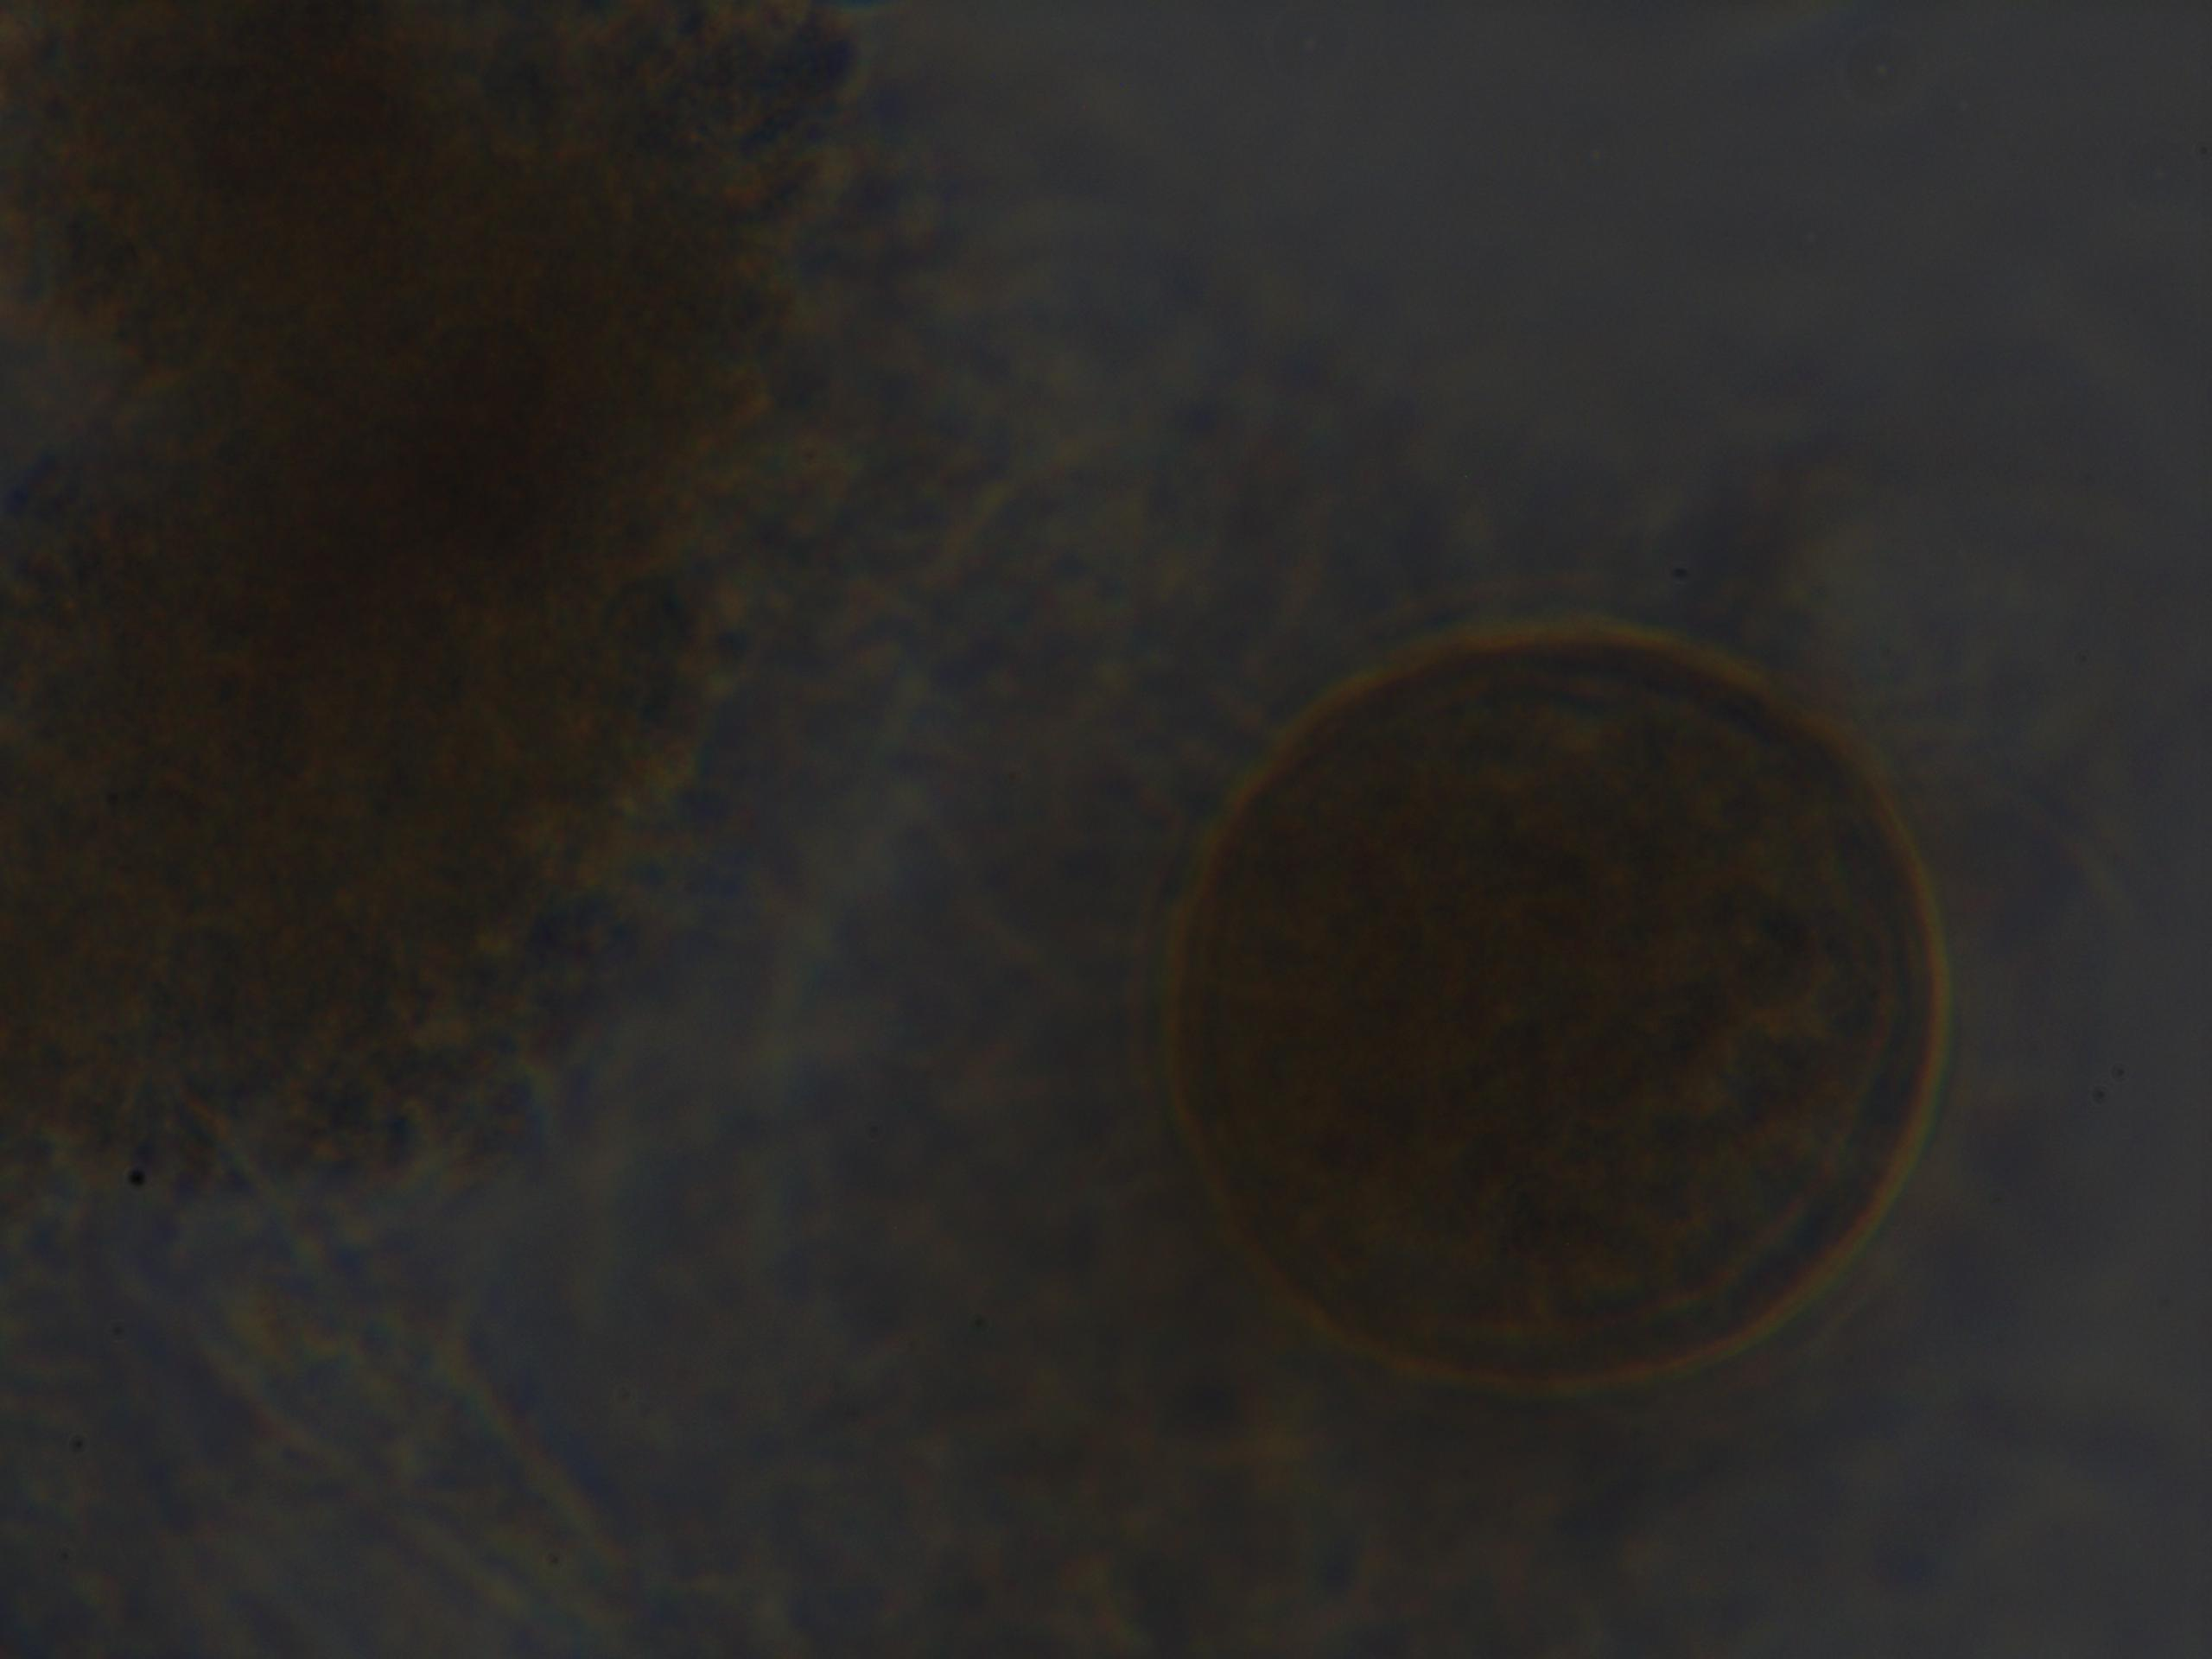filament: (73, 1110, 644, 1659)
